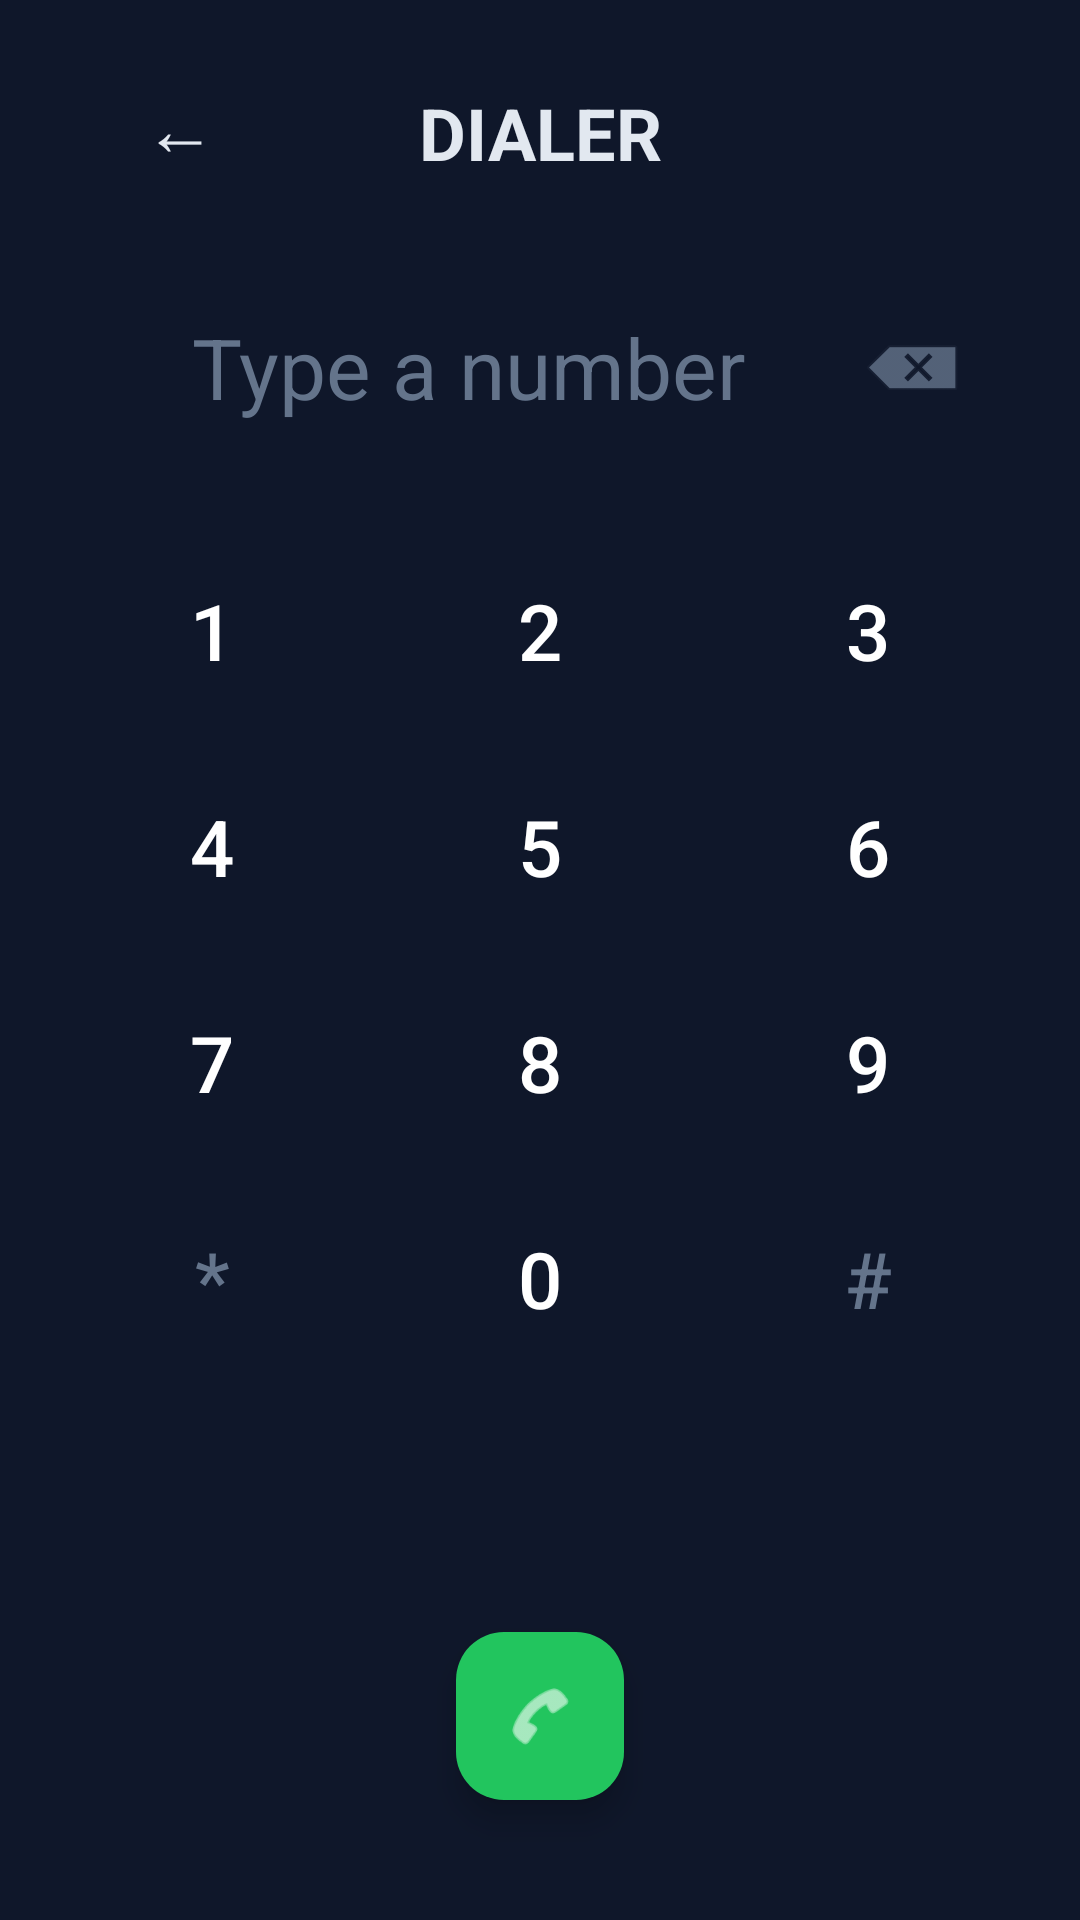

Named icons in this screenshot (1080 x 1920) and their centers, (x=x, y=y):
call: (x=540, y=1716)
delete: (x=912, y=367)
